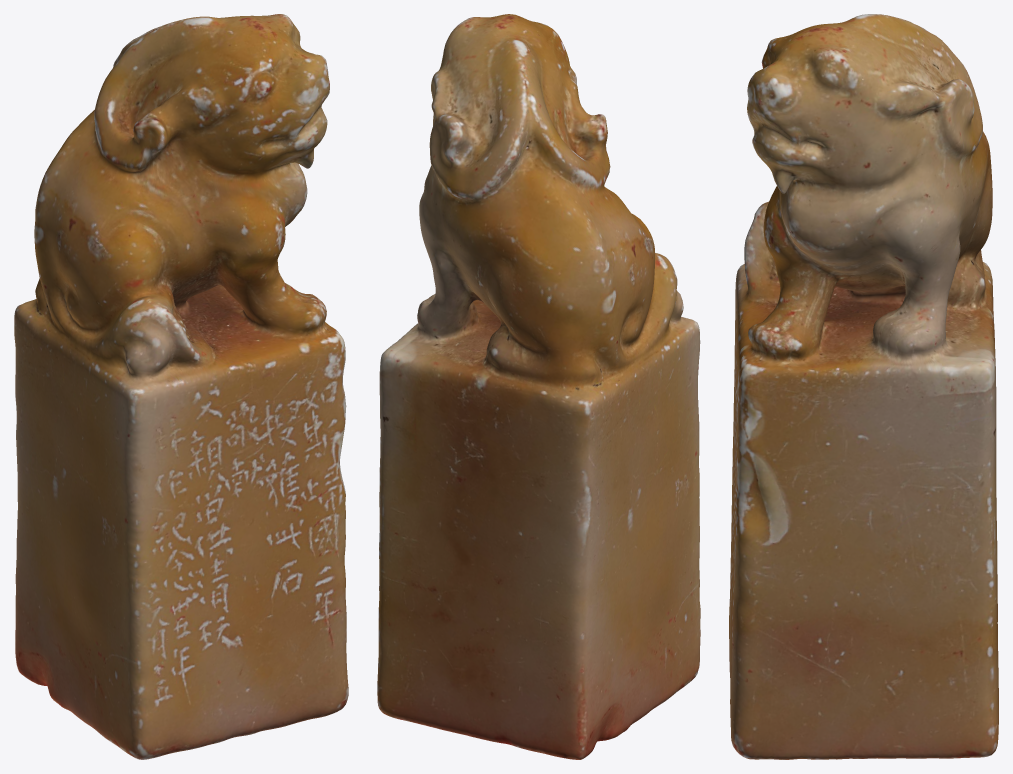
3 renders of one model, left to right at view 1: azimuth 30°, elevation 25°; view 2: azimuth 150°, elevation 25°; view 3: azimuth 270°, elevation 25°, orthographic. The views are drawn at different scales.
Visible parts, largest first — view 1: lowpoly; view 2: lowpoly; view 3: lowpoly.
Boxes of the visible parts, <box> form: lowpoly: <box>14,14,348,759</box>; lowpoly: <box>377,14,700,759</box>; lowpoly: <box>729,14,998,759</box>.
Size of the model in its own units: 4.15 by 12.01 by 4.16.
Materials: 1 (1 with a texture image).
